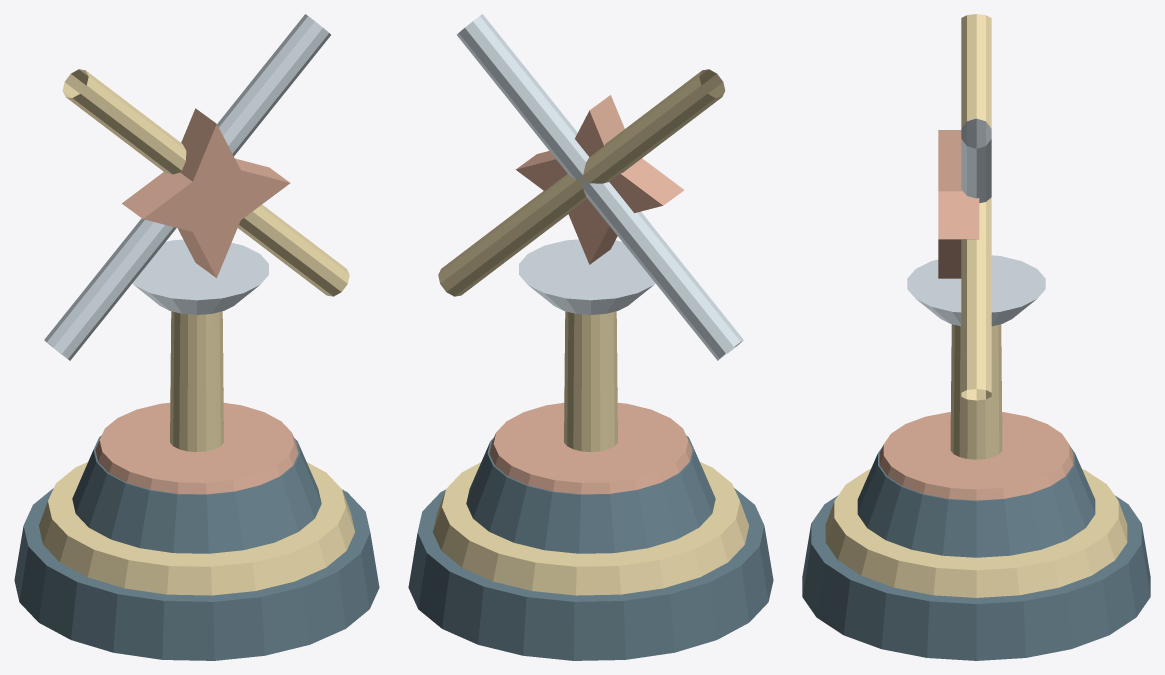
Rendered from battle-line.glb.
The picture shows the model from 3 angles, left to right: view 1: azimuth 30°, elevation 25°; view 2: azimuth 150°, elevation 25°; view 3: azimuth 270°, elevation 25°; orthographic projection. The views are drawn at different scales.
Bounding box in the file's own units: 1.2 × 1.96 × 1.19.
